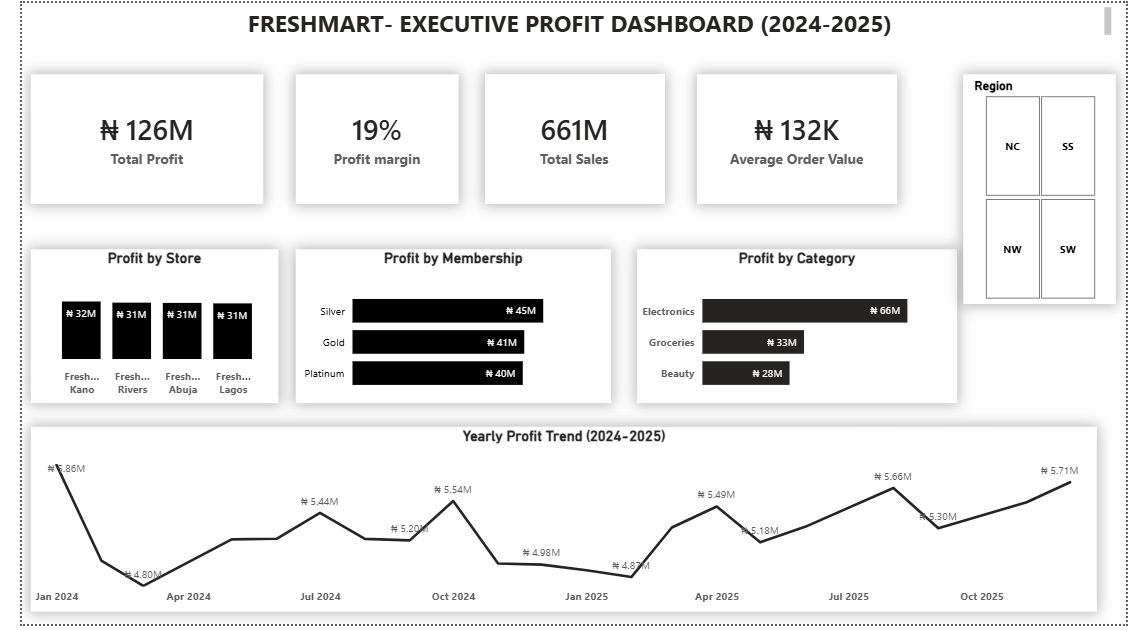

What the dashboard file says about the page in this screenshot:
{"tool":"powerbi","page":{"name":"Profit","canvas":[1280,720],"ordinal":0},"visuals":[{"type":"textbox","box":[10.1,0,1258,43.5],"z":0},{"type":"cardVisual","fields":{"Data":["PRACTICE.Total profit"]},"box":[10.1,82.6,269.6,150.7],"z":1000},{"type":"cardVisual","fields":{"Data":["PRACTICE.Total Sales"]},"box":[536.2,82.6,208.7,150.7],"z":2000},{"type":"cardVisual","fields":{"Data":["PRACTICE.Profit margin"]},"box":[317.4,82.6,188.4,150.7],"z":3000},{"type":"cardVisual","fields":{"Data":["PRACTICE.Average Order Value"]},"box":[782.6,82.6,231.9,150.7],"z":4000},{"type":"lineChart","title":"Yearly Profit Trend (2024-2025)","fields":{"Y":["PRACTICE.Total_profit"],"Category":["Fact_Sales.Date.Variation.Date Hierarchy.Year","Fact_Sales.Date.Variation.Date Hierarchy.Month"]},"box":[10.1,491.3,1236.2,214.5],"z":5000},{"type":"clusteredColumnChart","title":"Profit by Store","fields":{"Category":["Dim_Stores.Store"],"Y":["PRACTICE.Total profit"]},"box":[10.1,285.5,287,178.3],"z":6000},{"type":"barChart","title":"Profit by Category","fields":{"Category":["Dim_Products.Category"],"Y":["PRACTICE.Total_profit"]},"box":[713,285.5,371,178.3],"z":7000},{"type":"slicer","fields":{"Values":["Dim_Customers.Region"]},"box":[1091.3,82.6,176.8,266.7],"z":8000},{"type":"clusteredBarChart","title":"Profit by Membership","fields":{"Y":["PRACTICE.Total profit"],"Category":["Dim_Customers.Membership"]},"box":[317.4,285.5,365.2,178.3],"z":9000}]}

Visuals, with their boxes in screenshot pixels (x1, y1, x2, y2), scaled from the page's 1280x720 canvas onto the 1142x631 screenshot:
textbox: bbox=(9, 0, 1131, 38)
cardVisual - PRACTICE.Total profit: bbox=(9, 72, 250, 204)
cardVisual - PRACTICE.Total Sales: bbox=(478, 72, 665, 204)
cardVisual - PRACTICE.Profit margin: bbox=(283, 72, 451, 204)
cardVisual - PRACTICE.Average Order Value: bbox=(698, 72, 905, 204)
"Yearly Profit Trend (2024-2025)" lineChart: bbox=(9, 431, 1112, 619)
"Profit by Store" clusteredColumnChart: bbox=(9, 250, 265, 406)
"Profit by Category" barChart: bbox=(636, 250, 967, 406)
slicer - Dim_Customers.Region: bbox=(974, 72, 1131, 306)
"Profit by Membership" clusteredBarChart: bbox=(283, 250, 609, 406)
